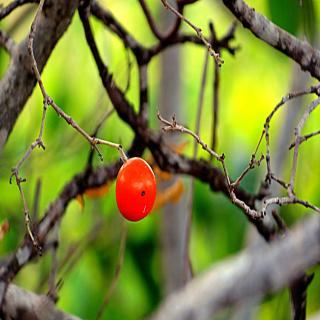tomato: (111, 164, 152, 220)
